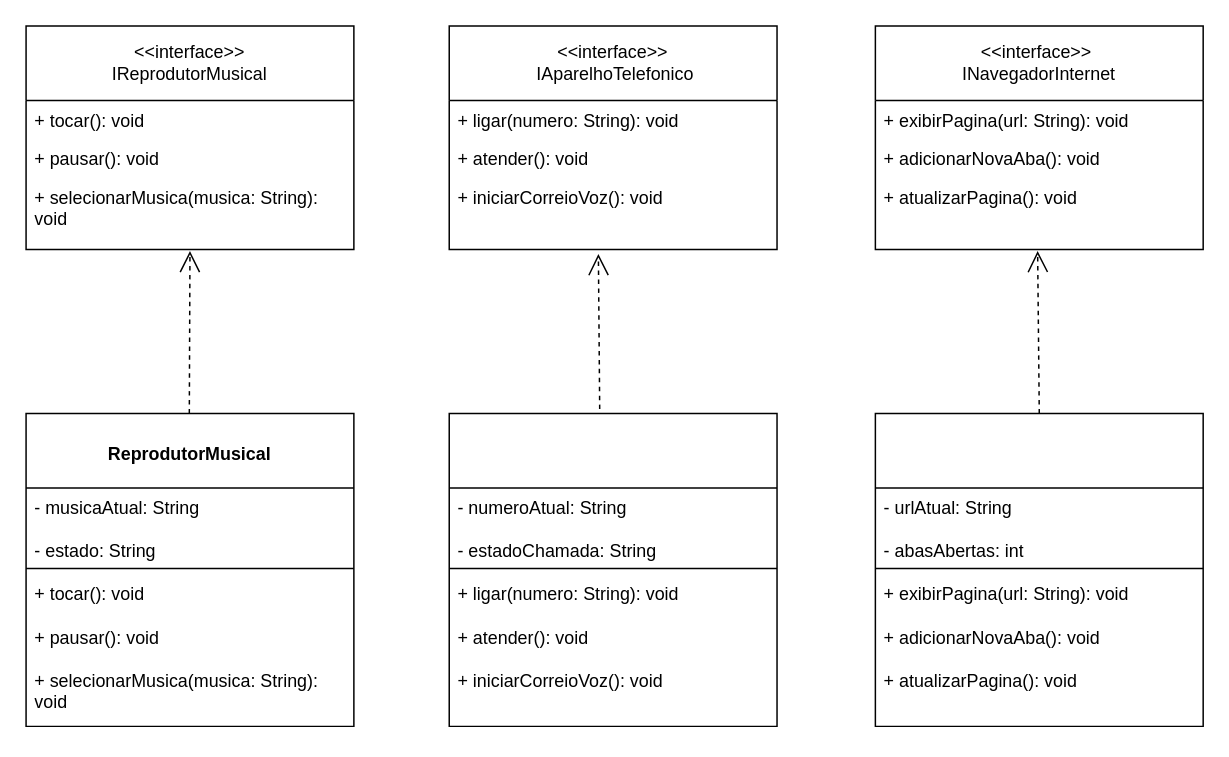
Image size: 1229x757. Some labels were removed from this diagram. Here are the shapes that lost their labels. From the top down, the box of each, then its label:
(448, 412, 777, 726): AparelhoTelefonico
(874, 412, 1203, 726): NavegadorInternet
